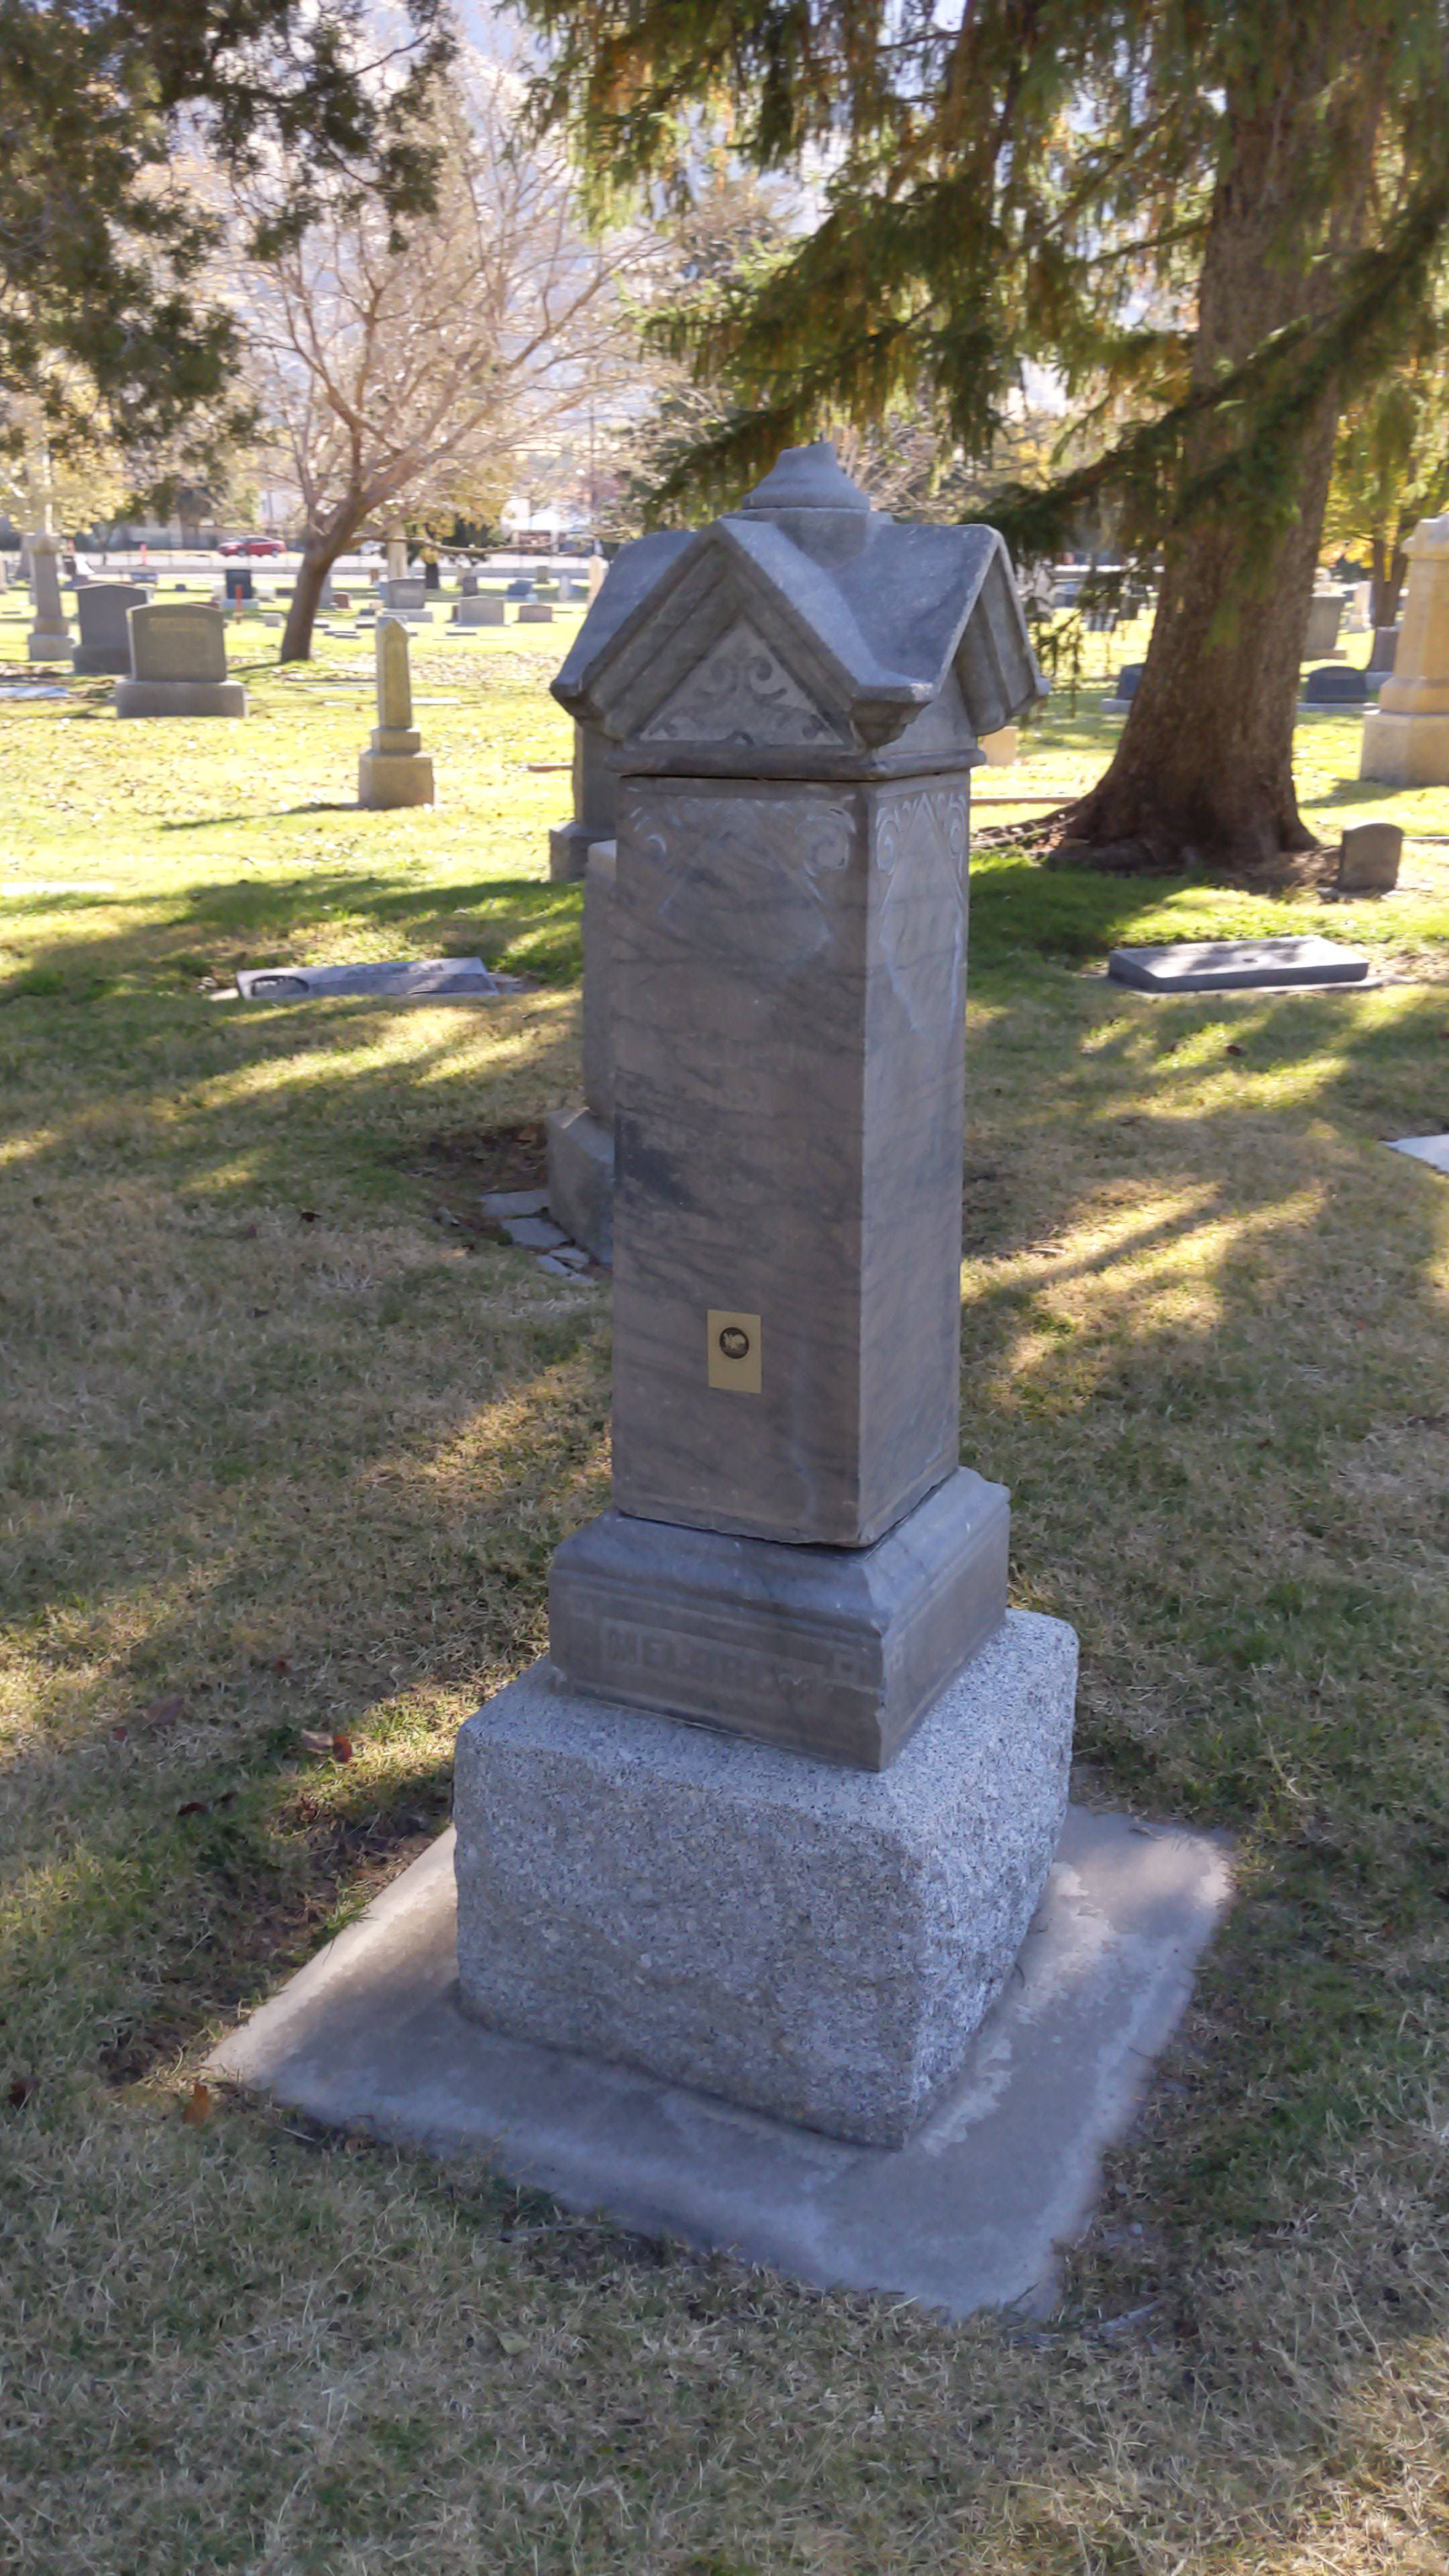obelisk: (556, 423, 1016, 1771)
